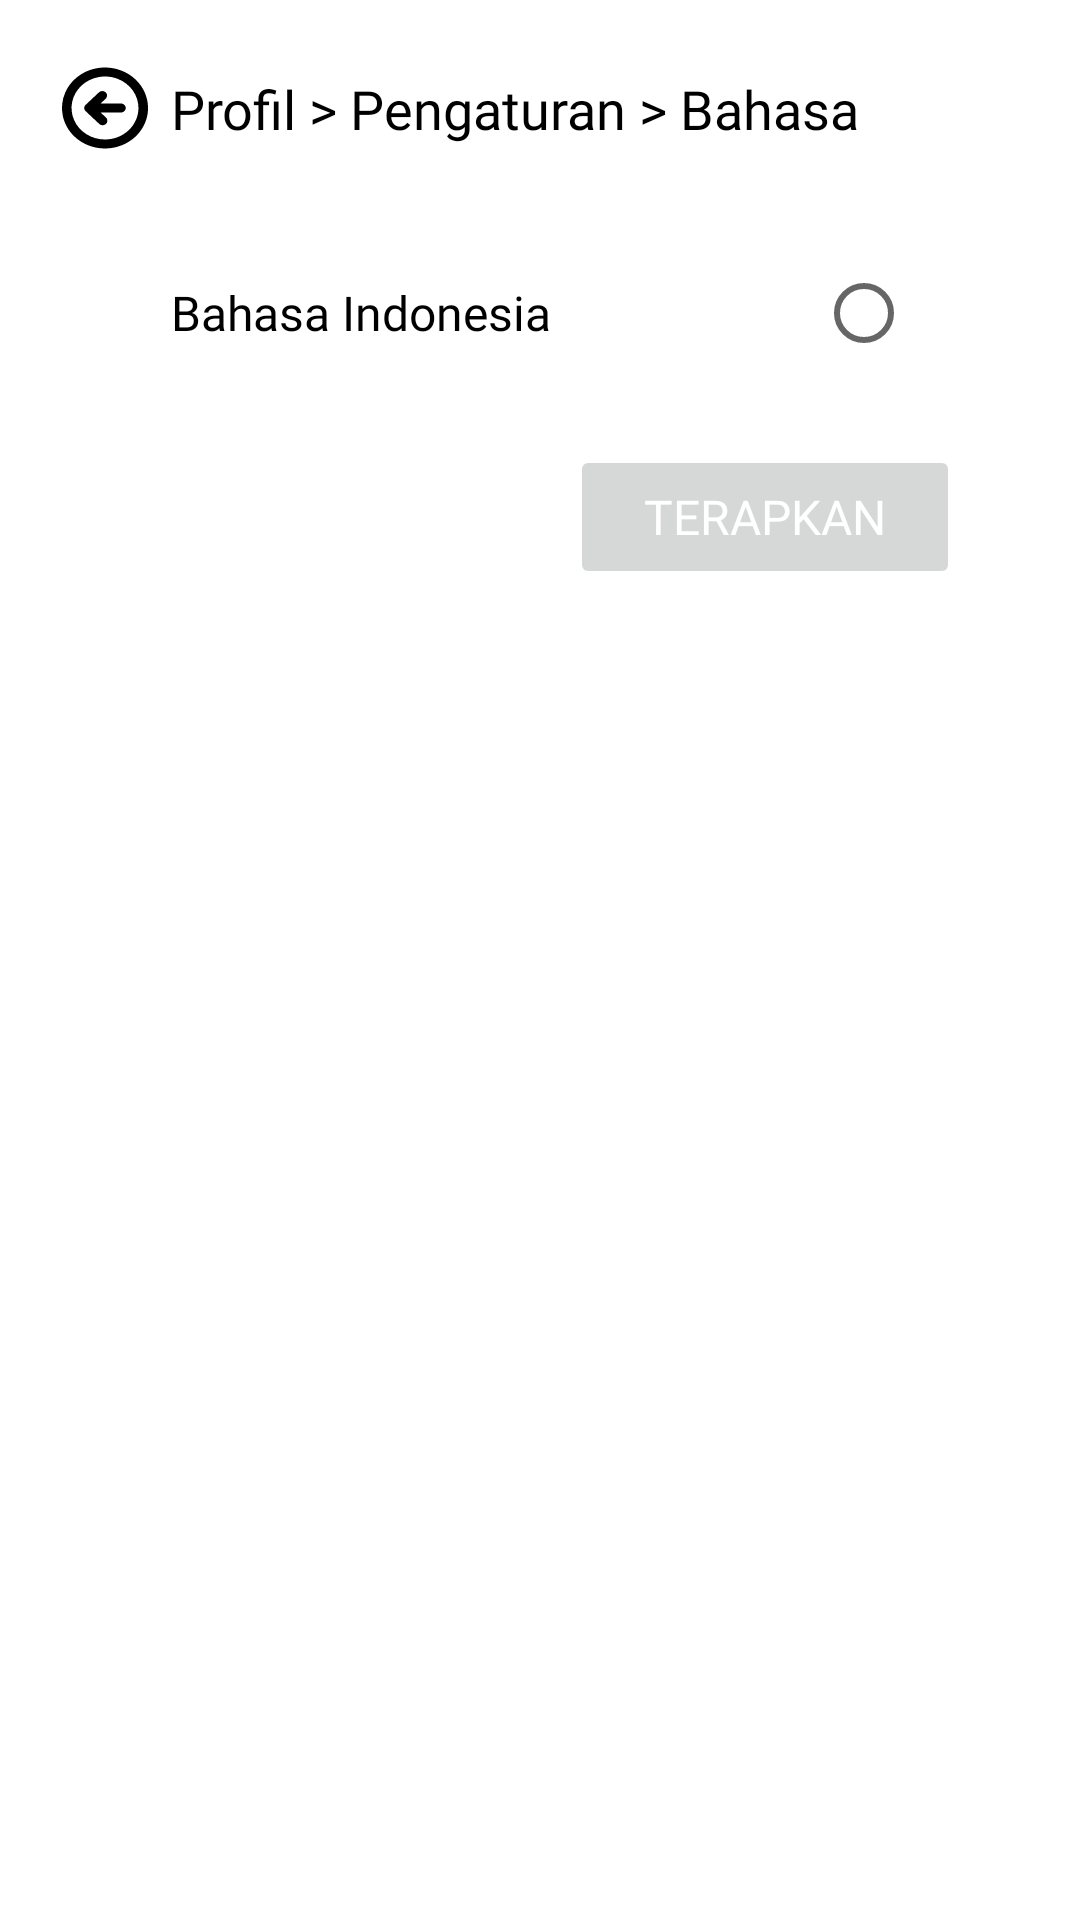

Icon bounding boxes for this 1080px x 1920px phone screenshot, format BBox(x1, y1, x2, y2):
arrow circle left: BBox(62, 67, 148, 149)
